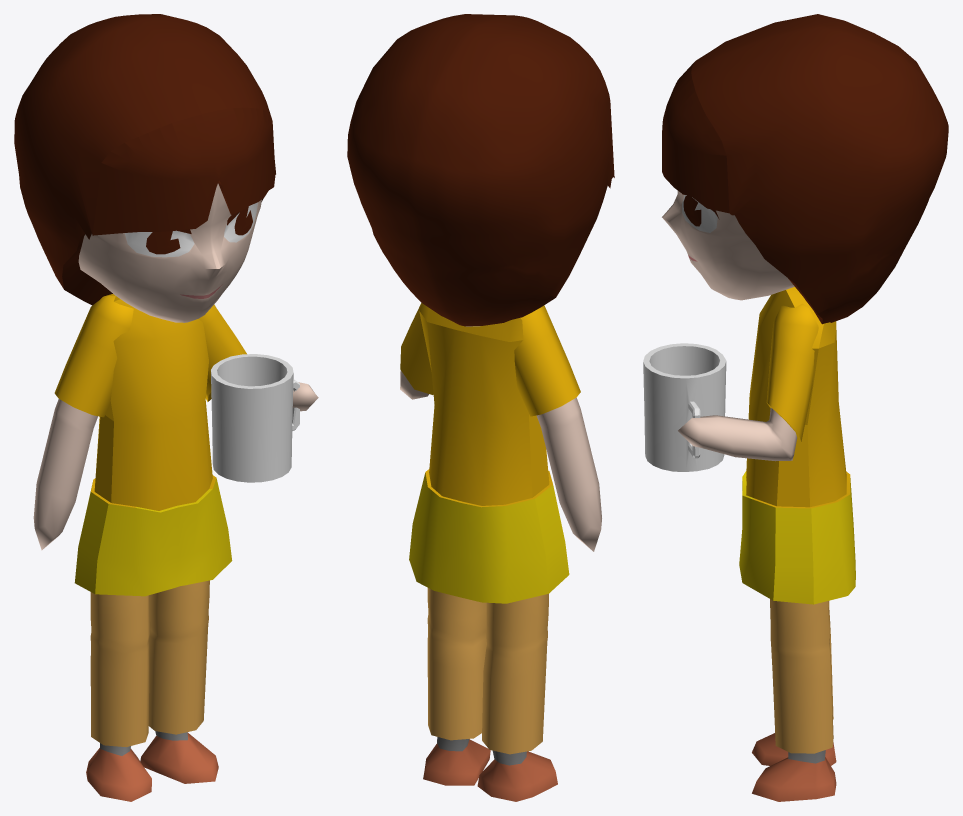
The model's file is koma_woman.fbx.
3 views of the same model, side by side, from view 1: azimuth 30°, elevation 25°; view 2: azimuth 150°, elevation 25°; view 3: azimuth 270°, elevation 25° (orthographic).
Visible parts, largest first — view 1: koma6_woman1:cop:pCylinder32; view 2: koma6_woman1:cop:pCylinder32; view 3: koma6_woman1:cop:pCylinder32.
Boxes of the visible parts, left/top/right/bottom form: koma6_woman1:cop:pCylinder32: left=14, top=14, right=318, bottom=801; koma6_woman1:cop:pCylinder32: left=347, top=14, right=614, bottom=801; koma6_woman1:cop:pCylinder32: left=643, top=14, right=948, bottom=801.
Bounding box in the file's own units: 2.14 × 6.68 × 2.47.
